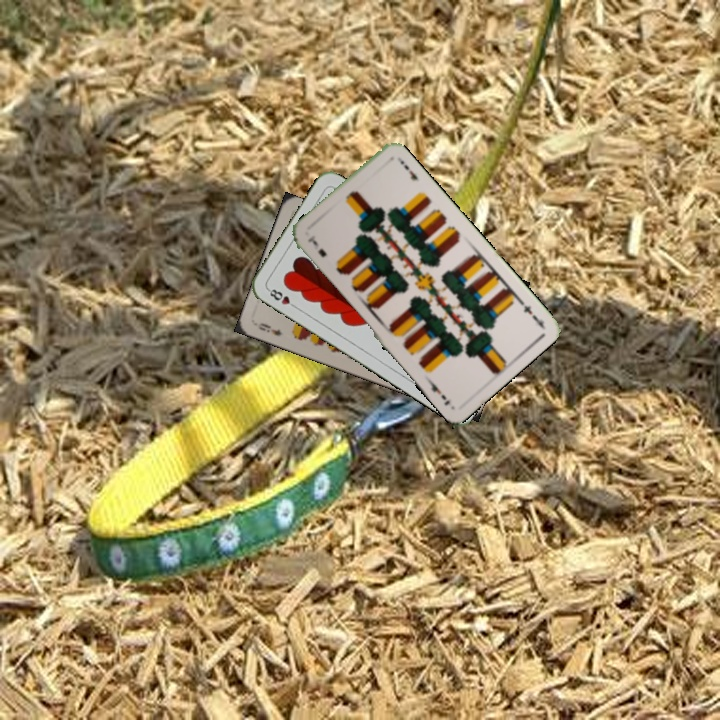E7: (515, 296, 547, 330), (304, 232, 329, 260)
E9: (254, 319, 285, 338)
H8: (264, 285, 300, 311)
